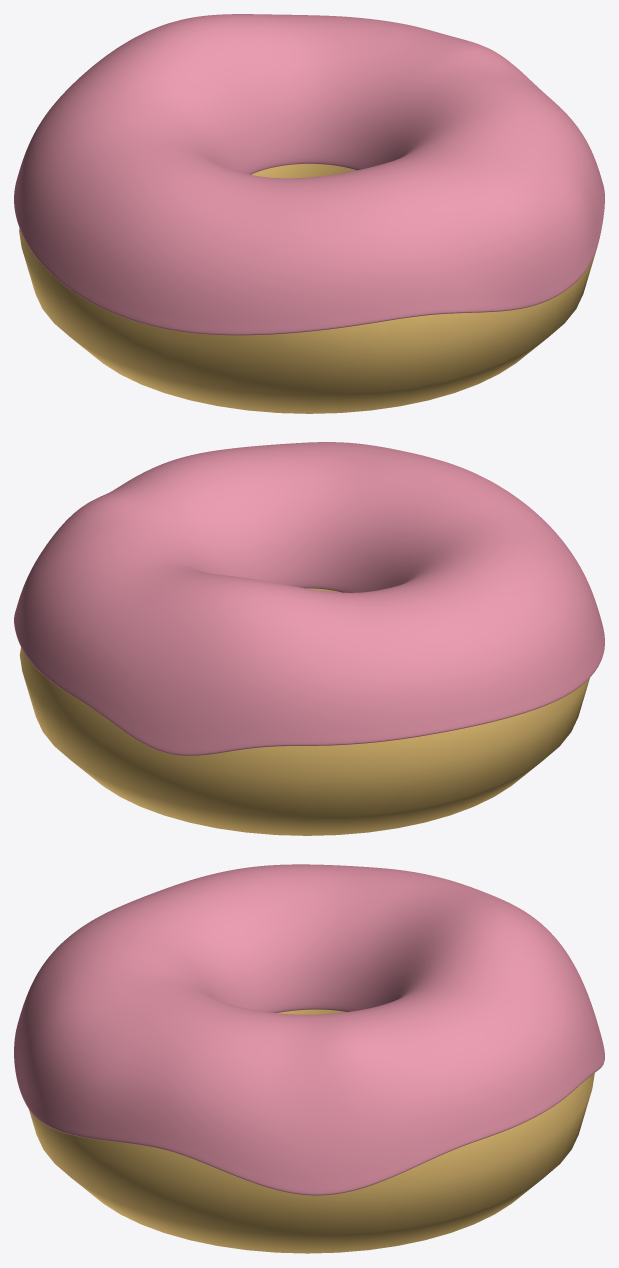
File: low-poly0donut.gltf
3 renders of one model, top to bottom at view 1: azimuth 30°, elevation 25°; view 2: azimuth 150°, elevation 25°; view 3: azimuth 270°, elevation 25°, orthographic.
Visible parts, largest first — view 1: icing, donut; view 2: icing, donut; view 3: icing, donut.
Boxes of the visible parts, left/top/right/bottom form: icing: left=14, top=14, right=604, bottom=335; donut: left=19, top=164, right=595, bottom=413; icing: left=14, top=442, right=604, bottom=755; donut: left=19, top=588, right=589, bottom=835; icing: left=14, top=864, right=604, bottom=1195; donut: left=29, top=1009, right=594, bottom=1253.
Size of the model in its own units: 0.1618 by 0.0707 by 0.1605.
